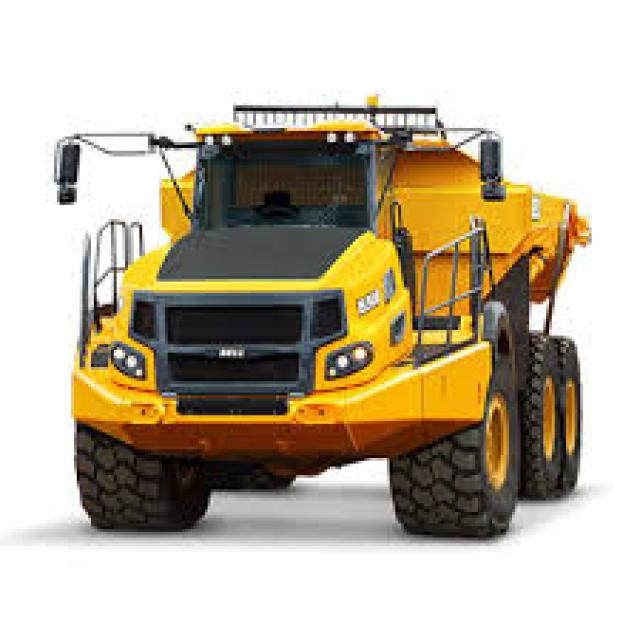dump_truck: (37, 88, 600, 541)
